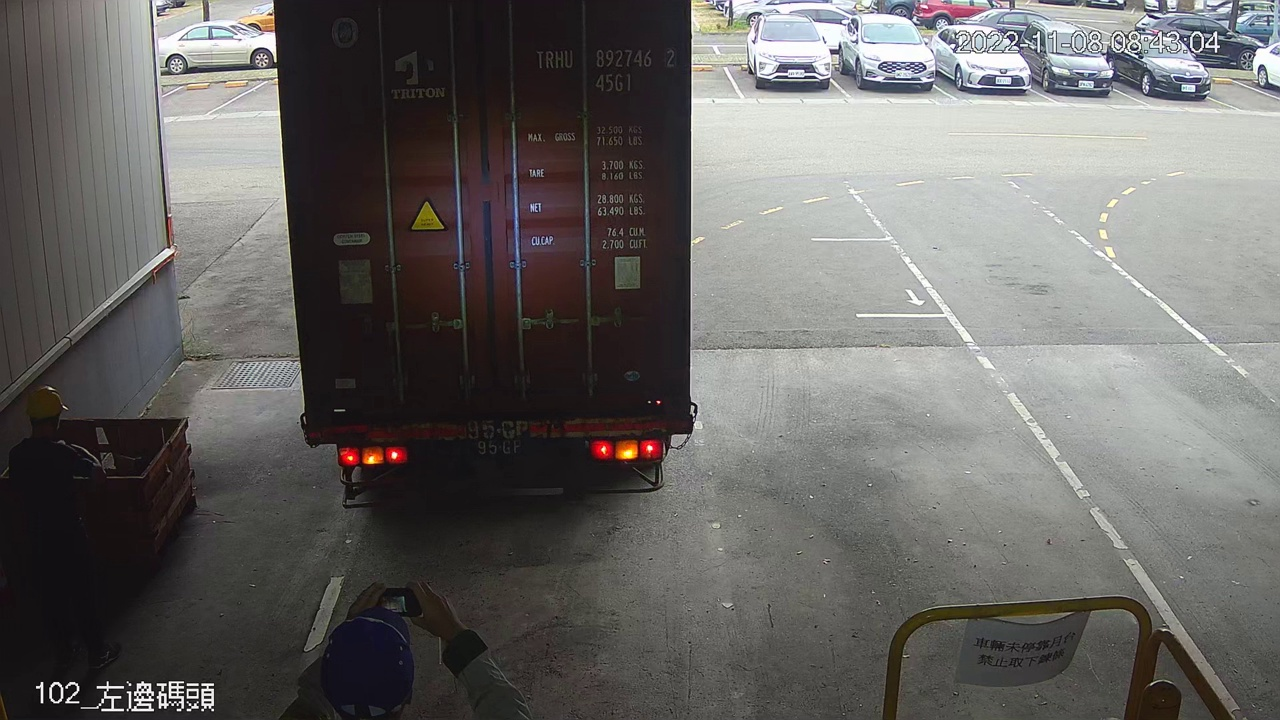container: (528, 41, 684, 98)
